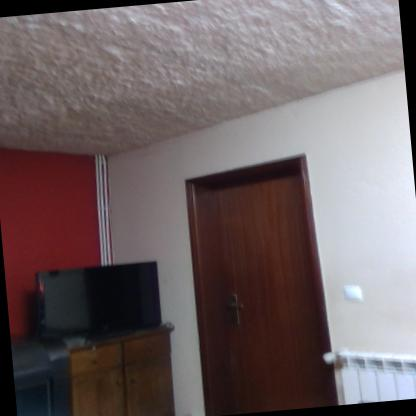closed: (167, 147, 347, 415)
